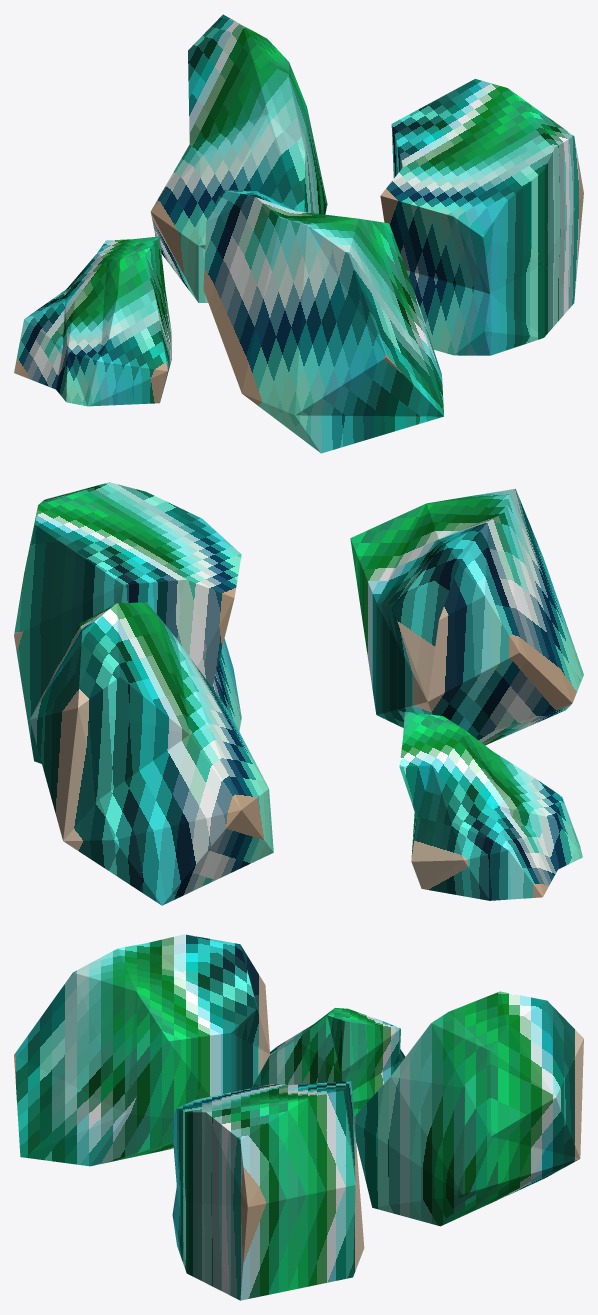
The model's file is shitou_102.FBX.
3 views of the same model, one above another, from view 1: azimuth 30°, elevation 25°; view 2: azimuth 150°, elevation 25°; view 3: azimuth 270°, elevation 25° (orthographic). The views are drawn at different scales.
Visible parts, largest first — view 1: 3, 2, 1, 4; view 2: 1, 3, 2, 4; view 3: 3, 1, 2, 4.
Boxes of the visible parts, left/top/right/bottom form: 3: left=203, top=190, right=443, bottom=453; 2: left=380, top=79, right=583, bottom=355; 1: left=150, top=14, right=327, bottom=302; 4: left=14, top=236, right=171, bottom=406; 1: left=30, top=602, right=273, bottom=905; 3: left=350, top=488, right=583, bottom=745; 2: left=14, top=482, right=241, bottom=763; 4: left=399, top=711, right=582, bottom=900; 3: left=14, top=934, right=270, bottom=1166; 1: left=354, top=991, right=583, bottom=1226; 2: left=171, top=1081, right=364, bottom=1300; 4: left=252, top=1008, right=405, bottom=1116.
Size of the model in its own units: 442 by 189 by 450.
